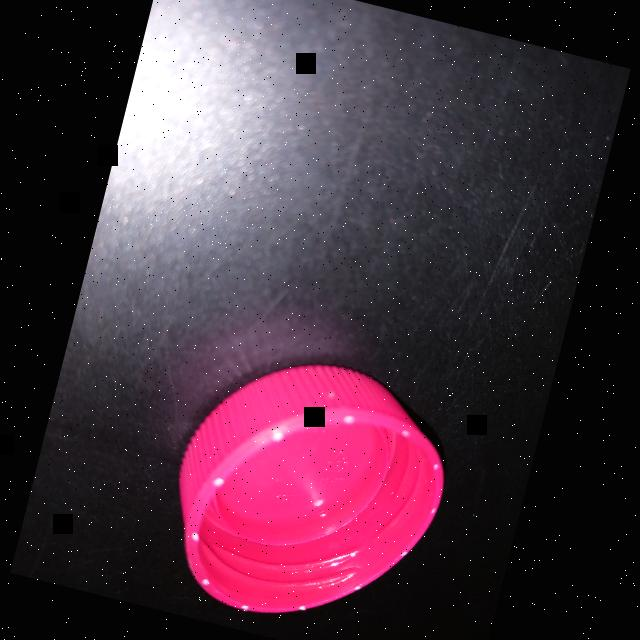plastic_bottle_cap: (146, 330, 469, 640)
